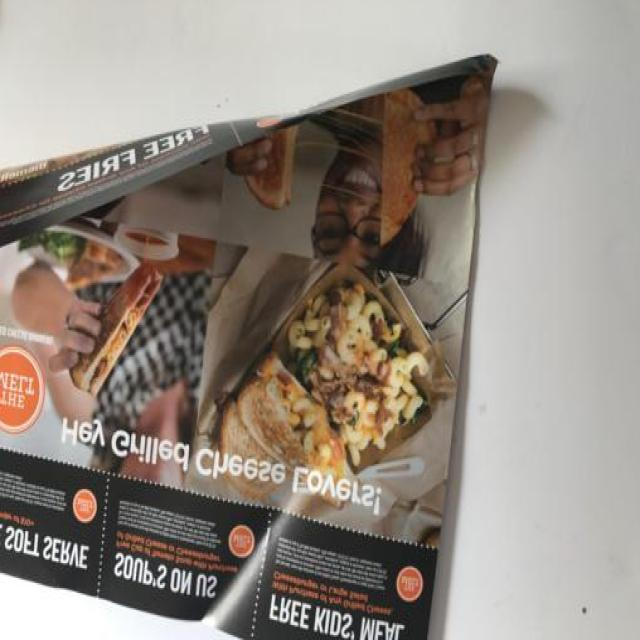kertas: (0, 52, 500, 640)
